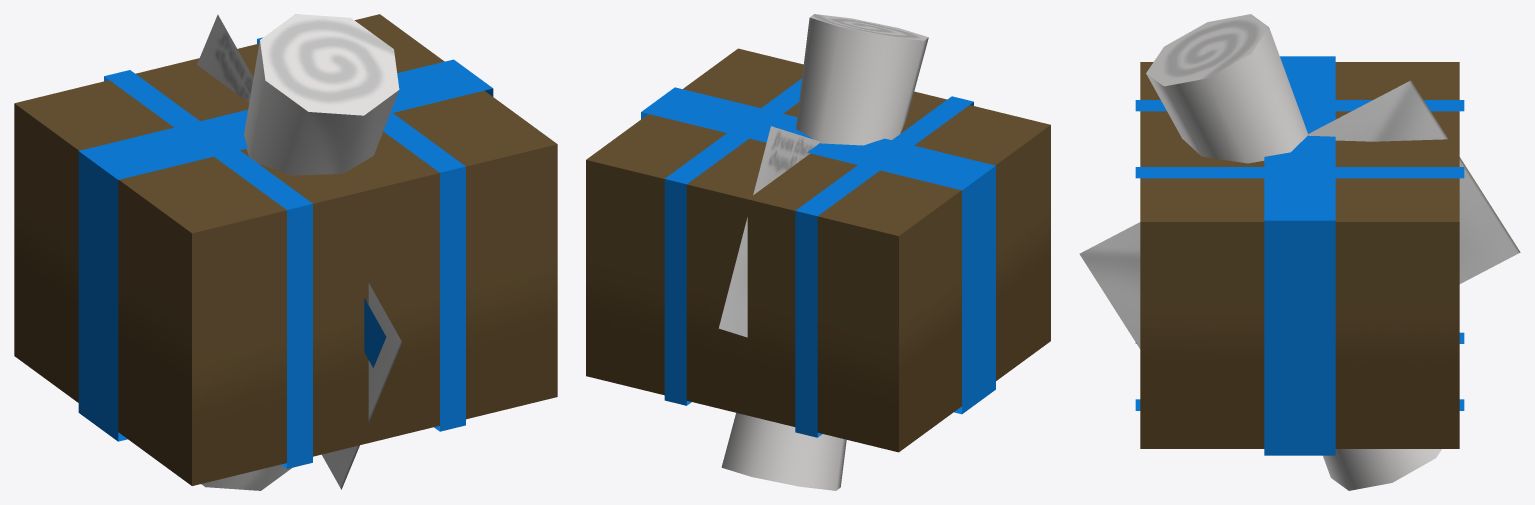
Rendered from Collectibles.fbx.
3 renders of one model, left to right at view 1: azimuth 30°, elevation 25°; view 2: azimuth 150°, elevation 25°; view 3: azimuth 270°, elevation 25°, orthographic. The views are drawn at different scales.
Visible parts, largest first — view 1: Package, Scroll, Letter; view 2: Package, Scroll, Letter; view 3: Package, Scroll, Letter.
Part boxes in pixels (bbox=[...]): Package: bbox=[14, 14, 557, 485]; Scroll: bbox=[201, 14, 399, 490]; Letter: bbox=[197, 14, 402, 489]; Package: bbox=[586, 48, 1050, 452]; Scroll: bbox=[721, 14, 928, 490]; Letter: bbox=[718, 126, 820, 337]; Package: bbox=[1135, 56, 1464, 455]; Scroll: bbox=[1146, 14, 1441, 490]; Letter: bbox=[1079, 80, 1520, 348].
Bounding box in the file's own units: 177 × 227 × 201.
